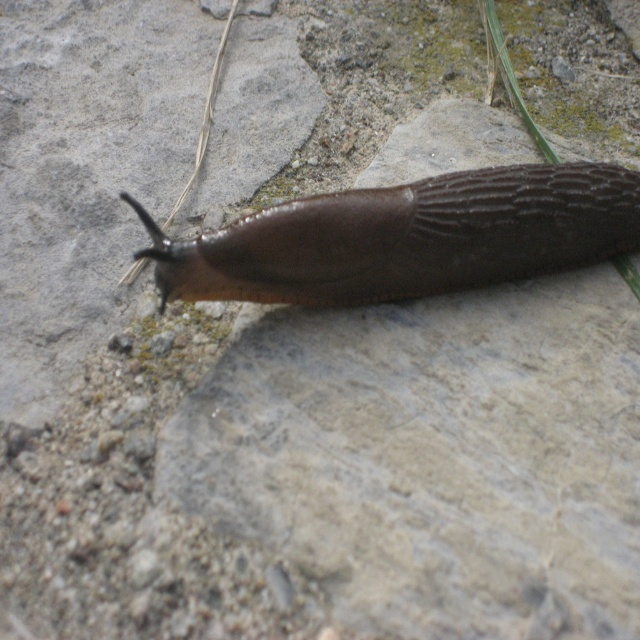Snail: (119, 160, 640, 316)
